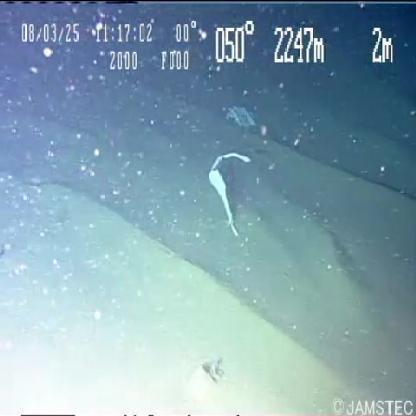Rác: (208, 154, 252, 226)
